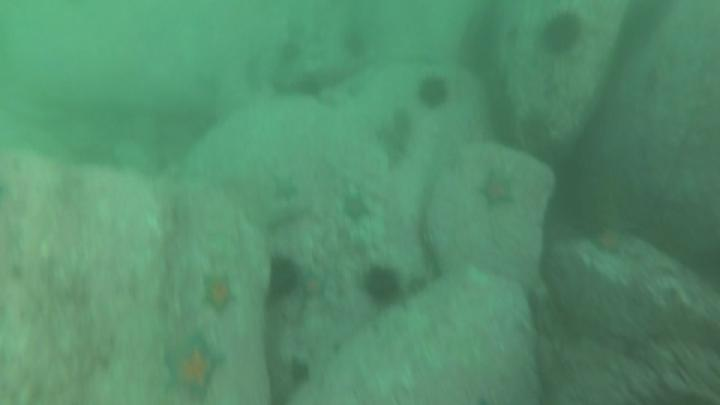echinus: (538, 10, 584, 61), (363, 264, 407, 306), (265, 255, 304, 300), (415, 72, 453, 113), (341, 31, 369, 59), (288, 358, 313, 386), (281, 38, 305, 65)
starfish: (159, 329, 227, 404), (199, 270, 241, 319), (476, 169, 520, 210), (587, 222, 628, 260), (339, 188, 376, 228), (297, 270, 332, 306), (269, 172, 302, 206)
